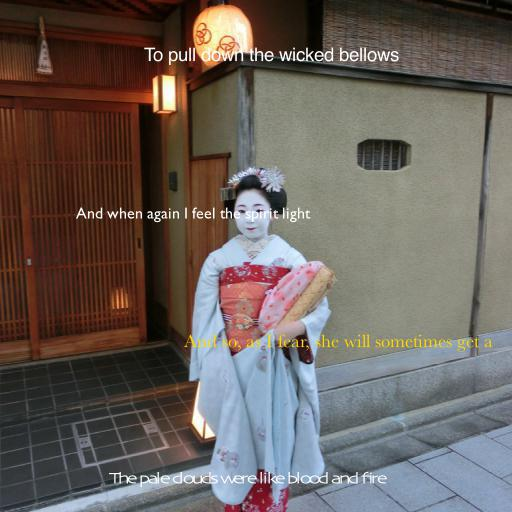Baskerville: (183, 334, 493, 352)
Gill Sans: (76, 207, 310, 223)
Impact: (143, 47, 399, 65)
Skia: (109, 471, 385, 487)
